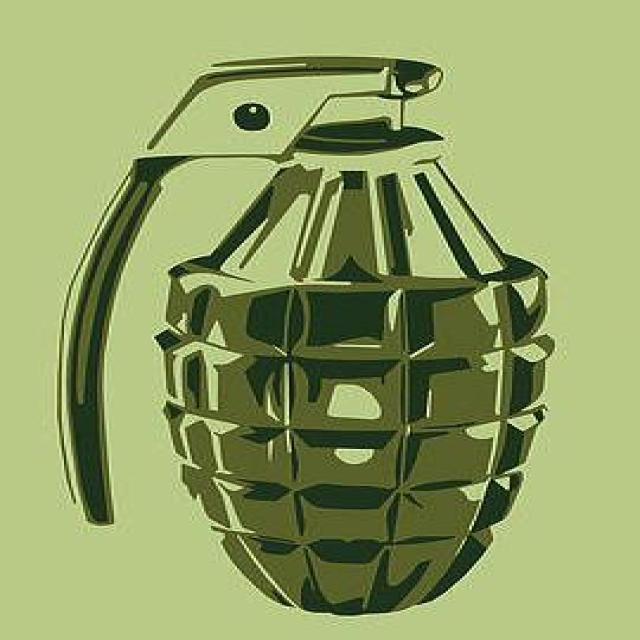grenade: (61, 55, 555, 618)
